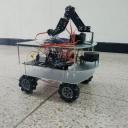cart: (15, 39, 101, 102)
